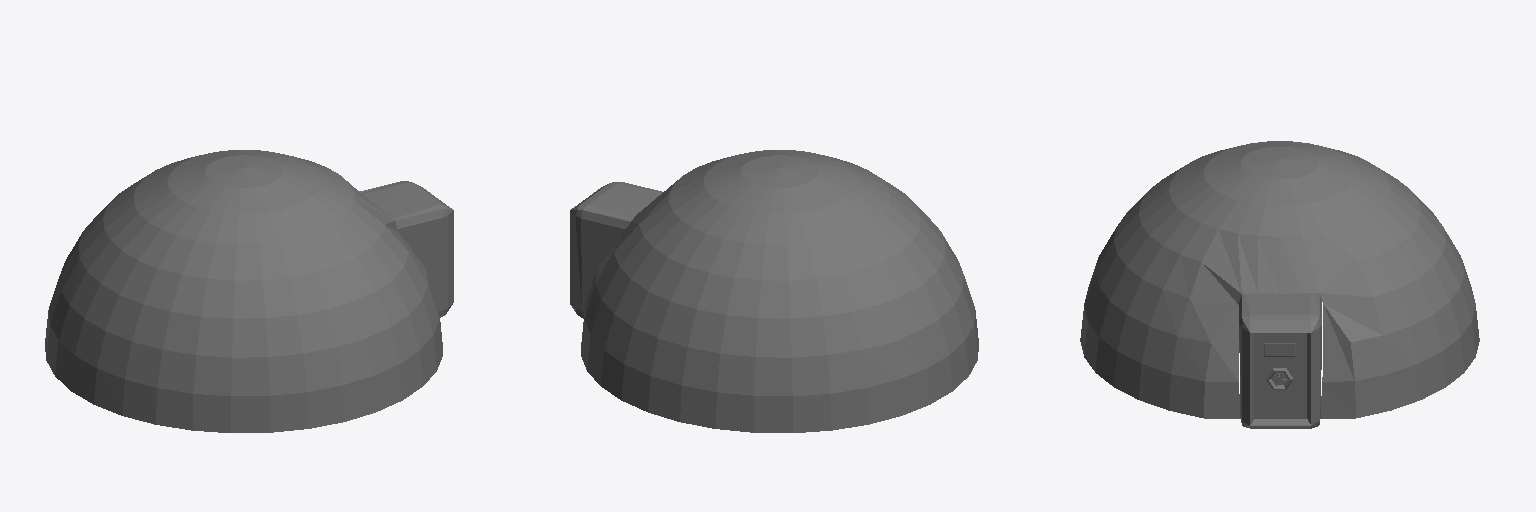
File: moonhut.obj
3 renders of one model, left to right at view 1: azimuth 30°, elevation 25°; view 2: azimuth 150°, elevation 25°; view 3: azimuth 270°, elevation 25°, orthographic.
Visible parts, largest first — view 1: Box001; view 2: Box001; view 3: Box001.
Part boxes in pixels (left/top/right/bottom): Box001: left=45, top=150, right=453, bottom=432; Box001: left=570, top=150, right=978, bottom=432; Box001: left=1080, top=141, right=1479, bottom=428.
Size of the model in its own units: 8.68 by 4.07 by 8.13.